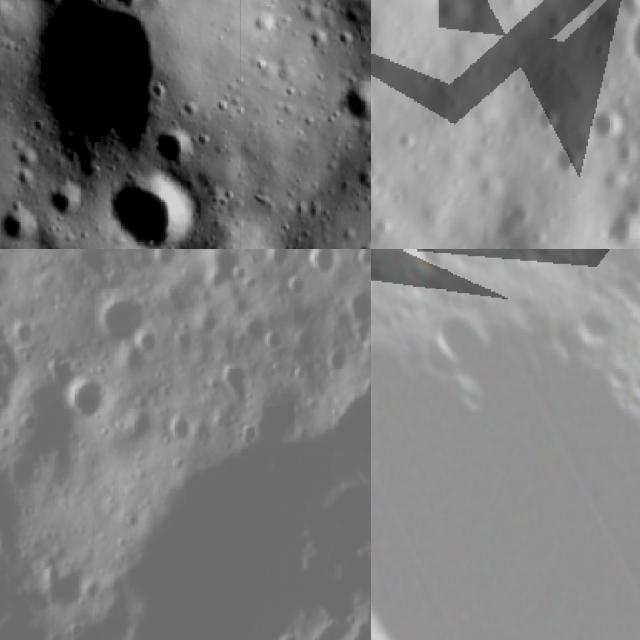crater: (371, 249, 640, 640), (26, 0, 159, 150), (100, 176, 198, 249), (422, 296, 503, 382), (562, 286, 636, 363), (37, 548, 113, 614), (0, 454, 35, 563), (579, 101, 638, 159), (541, 138, 593, 192), (92, 296, 145, 346), (152, 125, 204, 172), (611, 0, 640, 84), (68, 372, 108, 425), (41, 180, 84, 223), (340, 74, 371, 131), (216, 364, 259, 404), (0, 205, 41, 245), (527, 105, 567, 146), (168, 414, 198, 455), (299, 249, 346, 273), (149, 249, 190, 276), (199, 304, 233, 336), (126, 327, 160, 356), (256, 249, 305, 266), (113, 0, 150, 13)
